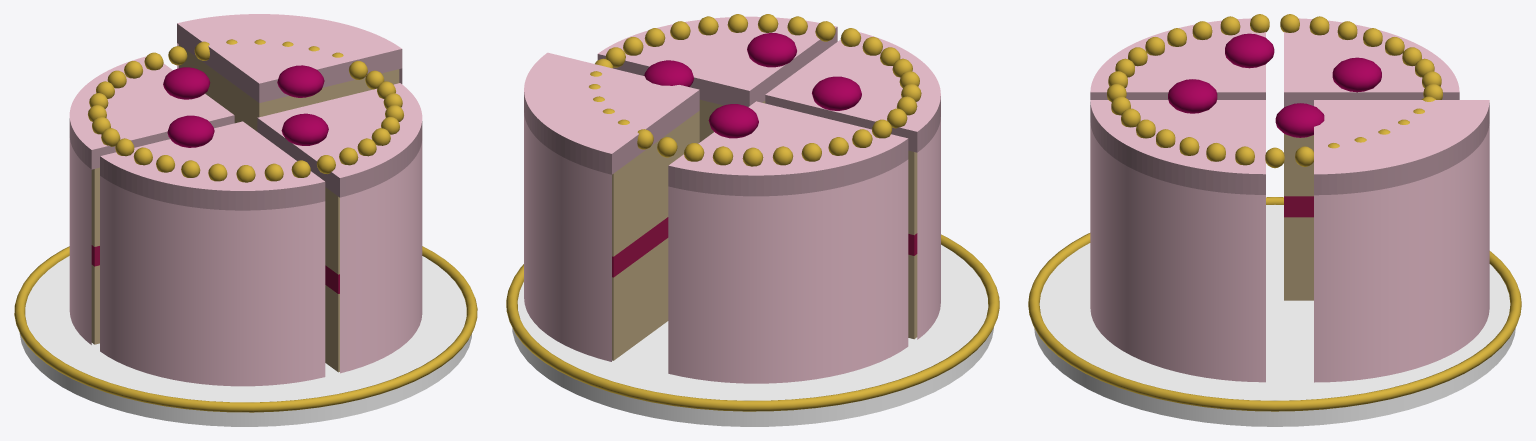
File: torta-15cm-10alto-1p-4porc-rosa.glb
3 renders of one model, left to right at view 1: azimuth 30°, elevation 25°; view 2: azimuth 150°, elevation 25°; view 3: azimuth 270°, elevation 25°, orthographic. The views are drawn at different scales.
Size of the model in its own units: 0.215 by 0.1216 by 0.215.
